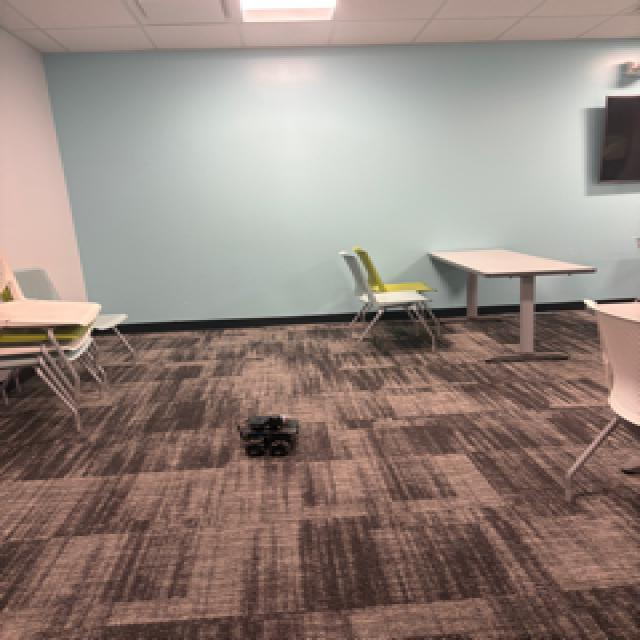ArduinoCar3: (234, 413, 301, 457)
